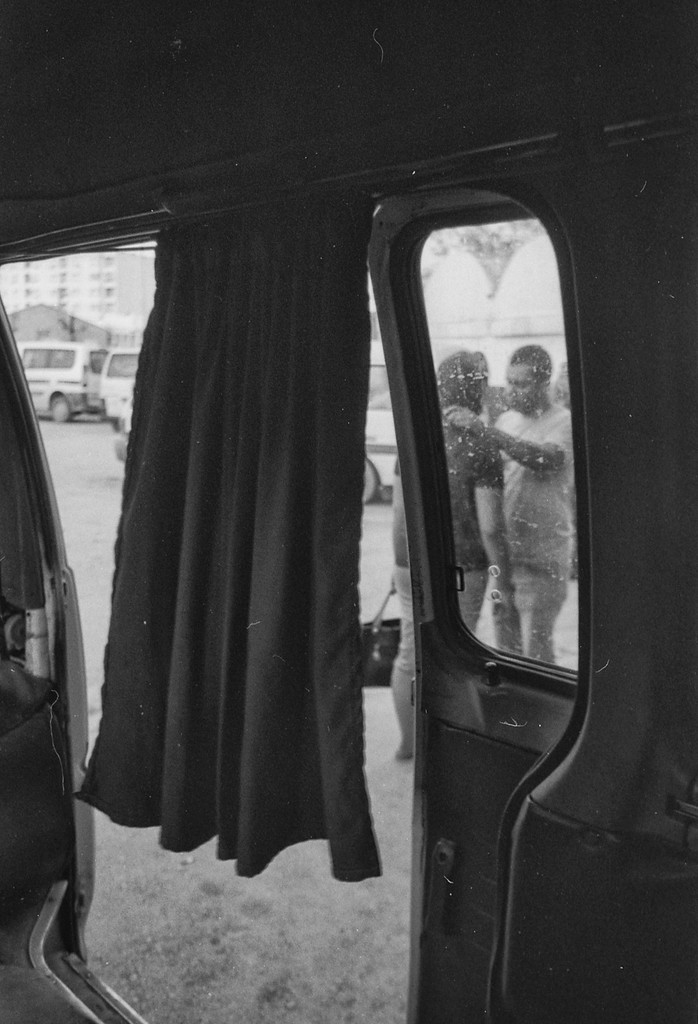face: (507, 359, 540, 411)
person: (381, 354, 497, 766), (486, 343, 577, 670)
